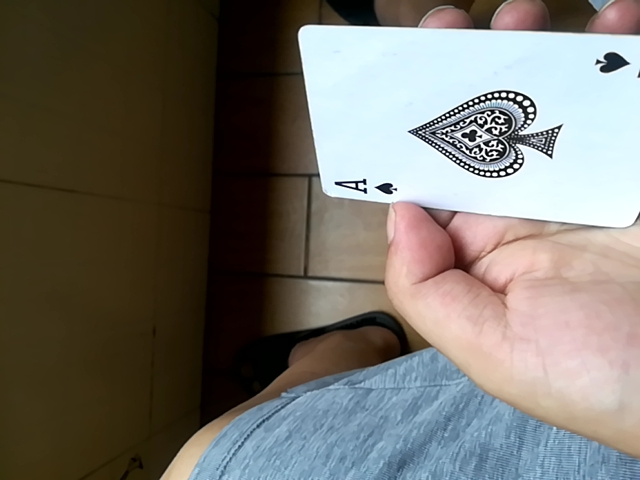ht a: (301, 25, 639, 230)
